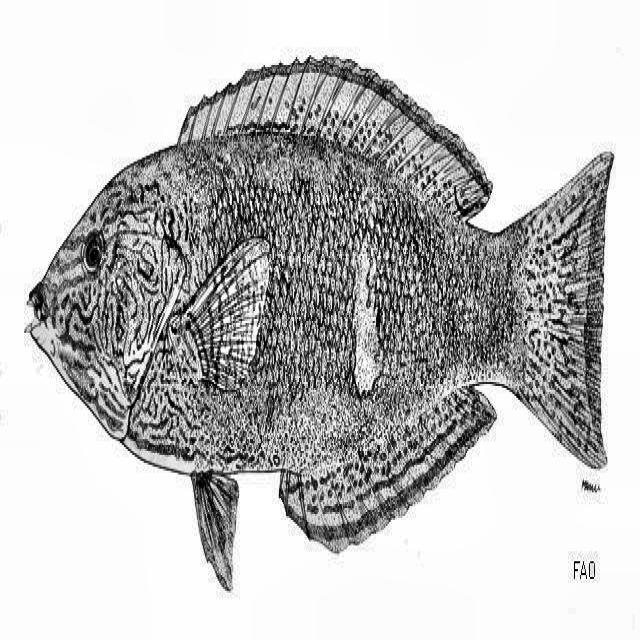fish: (24, 57, 614, 590)
